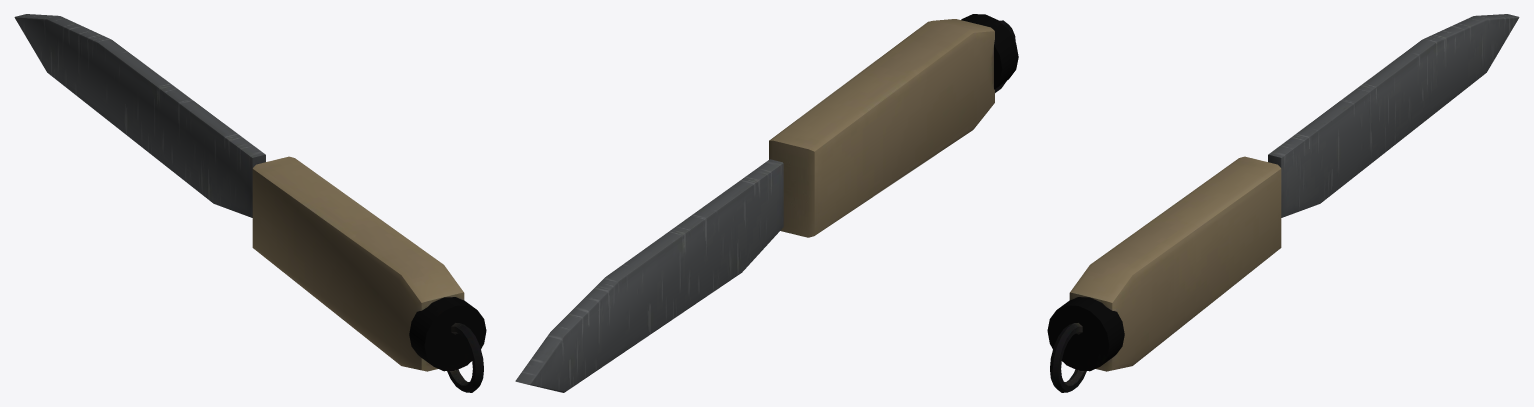
File: knife_survival.glb
3 renders of one model, left to right at view 1: azimuth 30°, elevation 25°; view 2: azimuth 150°, elevation 25°; view 3: azimuth 330°, elevation 25°, orthographic. The views are drawn at different scales.
Parts seen in each view (by area): view 1: body_furniture, body_receiver, body_metal; view 2: body_furniture, body_receiver, body_metal; view 3: body_furniture, body_receiver, body_metal.
Boxes of the visible parts, x1,y1,x2,y2 form: body_furniture: (252, 156, 464, 371); body_receiver: (14, 14, 265, 217); body_metal: (409, 297, 486, 392); body_furniture: (769, 19, 994, 237); body_receiver: (515, 159, 783, 392); body_metal: (961, 14, 1018, 92); body_furniture: (1069, 156, 1281, 371); body_receiver: (1268, 14, 1519, 217); body_metal: (1047, 297, 1124, 392).
Bounding box in the file's own units: 0.028 × 0.041 × 0.3602.
Materials: 3 (3 with a texture image).
